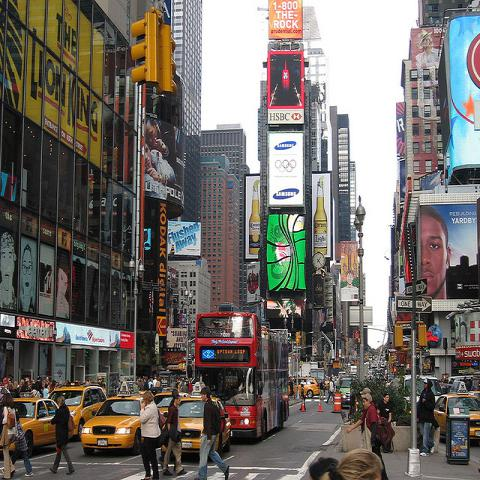bus: (196, 313, 291, 441)
car: (80, 389, 146, 456), (161, 398, 231, 461), (0, 398, 75, 455), (48, 384, 107, 437), (434, 392, 480, 441), (402, 374, 442, 416), (284, 377, 330, 396), (154, 393, 174, 417), (298, 377, 320, 398), (338, 380, 351, 408), (447, 376, 465, 383), (440, 383, 451, 394), (470, 388, 480, 398), (348, 372, 357, 376)
